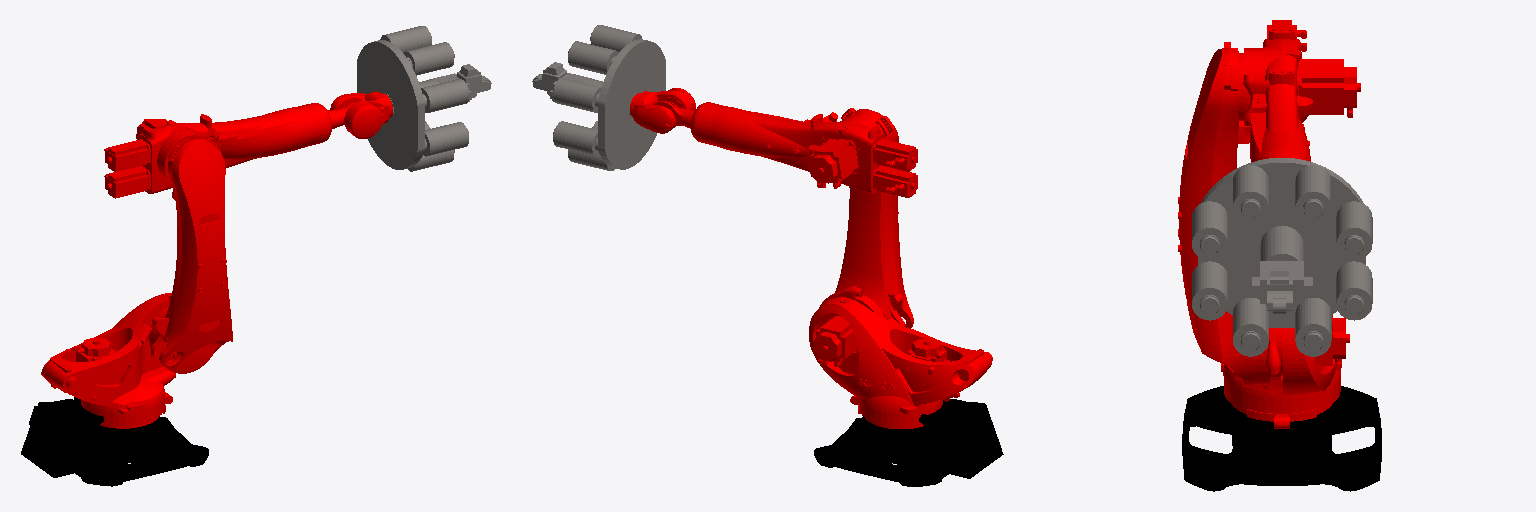
robot.urdf — testzxb:
<?xml version="1.0" encoding="utf-8"?>
<!-- This URDF was automatically created by SolidWorks to URDF Exporter! Originally created by [author] ([email redacted]) 
     Commit Version: 1.6.0-1-g15f4949  Build Version: 1.6.7594.29634
     For more information, please see http://wiki.ros.org/sw_urdf_exporter -->
<robot
  name="testzxb">
  <link
    name="base_link">
    <inertial>
      <origin
        xyz="-0.13309 0.00015108 0.12359"
        rpy="0 0 0" />
      <mass
        value="81.392" />
      <inertia
        ixx="2.3667"
        ixy="0.0041807"
        ixz="0.40095"
        iyy="5.0216"
        iyz="-0.003586"
        izz="6.4772" />
    </inertial>
    <visual>
      <origin
        xyz="0 0 0"
        rpy="0 0 0" />
      <geometry>
        <mesh
          filename="package://testzxb/meshes/base_link.STL" />
      </geometry>
      <material
        name="Black">
        <color
          rgba="0 0 0 1" />
      </material>
    </visual>
    <collision>
      <origin
        xyz="0 0 0"
        rpy="0 0 0" />
      <geometry>
        <mesh
          filename="package://testzxb/meshes/base_link.STL" />
      </geometry>
    </collision>
  </link>
  <link
    name="link1">
    <inertial>
      <origin
        xyz="0.003882 0.01916 -0.19"
        rpy="0 0 0" />
      <mass
        value="88.977" />
      <inertia
        ixx="3.1934"
        ixy="-0.63734"
        ixz="-0.50662"
        iyy="6.3593"
        iyz="-0.25989"
        izz="5.3066" />
    </inertial>
    <visual>
      <origin
        xyz="0 0 0"
        rpy="0 0 0" />
      <geometry>
        <mesh
          filename="package://testzxb/meshes/link1.STL" />
      </geometry>
      <material
        name="Red">
        <color
          rgba="1 0 0 1" />
      </material>
    </visual>
    <collision>
      <origin
        xyz="0 0 0"
        rpy="0 0 0" />
      <geometry>
        <mesh
          filename="package://testzxb/meshes/link1.STL" />
      </geometry>
    </collision>
  </link>
  <joint
    name="joint1"
    type="revolute">
    <origin
      xyz="0 0 0.675"
      rpy="0 0 0" />
    <parent
      link="base_link" />
    <child
      link="link1" />
    <axis
      xyz="0 0 -1" />
    <limit
      lower="-180"
      upper="180"
      effort="0"
      velocity="0" />
  </joint>
  <link
    name="link2">
    <inertial>
      <origin
        xyz="0.0030073 -0.43194 -0.23567"
        rpy="0 0 0" />
      <mass
        value="95.861" />
      <inertia
        ixx="15.982"
        ixy="0.0055049"
        ixz="-0.0048965"
        iyy="1.7586"
        iyz="-1.7556"
        izz="15.763" />
    </inertial>
    <visual>
      <origin
        xyz="0 0 0"
        rpy="0 0 0" />
      <geometry>
        <mesh
          filename="package://testzxb/meshes/link2.STL" />
      </geometry>
      <material
        name="Red">
        <color
          rgba="1 0 0 1" />
      </material>
    </visual>
    <collision>
      <origin
        xyz="0 0 0"
        rpy="0 0 0" />
      <geometry>
        <mesh
          filename="package://testzxb/meshes/link2.STL" />
      </geometry>
    </collision>
  </link>
  <joint
    name="joint2"
    type="revolute">
    <origin
      xyz="0.35 0 0"
      rpy="-1.5708 0 0" />
    <parent
      link="link1" />
    <child
      link="link2" />
    <axis
      xyz="0 0 -1" />
    <limit
      lower="-180"
      upper="180"
      effort="0"
      velocity="0" />
  </joint>
  <link
    name="link3">
    <inertial>
      <origin
        xyz="0.22582 0.024977 0.00024893"
        rpy="0 0 0" />
      <mass
        value="76.776" />
      <inertia
        ixx="1.0731"
        ixy="-0.221"
        ixz="0.1193"
        iyy="10.475"
        iyz="0.00051905"
        izz="10.381" />
    </inertial>
    <visual>
      <origin
        xyz="0 0 0"
        rpy="0 0 0" />
      <geometry>
        <mesh
          filename="package://testzxb/meshes/link3.STL" />
      </geometry>
      <material
        name="Red">
        <color
          rgba="1 0 0 1" />
      </material>
    </visual>
    <collision>
      <origin
        xyz="0 0 0"
        rpy="0 0 0" />
      <geometry>
        <mesh
          filename="package://testzxb/meshes/link3.STL" />
      </geometry>
    </collision>
  </link>
  <joint
    name="joint3"
    type="revolute">
    <origin
      xyz="0 -1.15 0"
      rpy="0 0 0" />
    <parent
      link="link2" />
    <child
      link="link3" />
    <axis
      xyz="0 0 1" />
    <limit
      lower="-180"
      upper="180"
      effort="0"
      velocity="0" />
  </joint>
  <link
    name="link4">
    <inertial>
      <origin
        xyz="3.6576E-06 0.00099016 -0.1567"
        rpy="0 0 0" />
      <mass
        value="4.7756" />
      <inertia
        ixx="0.05835"
        ixy="-5.5963E-08"
        ixz="-4.7946E-08"
        iyy="0.058855"
        iyz="-0.0009601"
        izz="0.02157" />
    </inertial>
    <visual>
      <origin
        xyz="0 0 0"
        rpy="0 0 0" />
      <geometry>
        <mesh
          filename="package://testzxb/meshes/link4.STL" />
      </geometry>
      <material
        name="Red">
        <color
          rgba="1 0 0 1" />
      </material>
    </visual>
    <collision>
      <origin
        xyz="0 0 0"
        rpy="0 0 0" />
      <geometry>
        <mesh
          filename="package://testzxb/meshes/link4.STL" />
      </geometry>
    </collision>
  </link>
  <joint
    name="joint4"
    type="revolute">
    <origin
      xyz="1.2 0.041 0"
      rpy="1.5708 0 1.5708" />
    <parent
      link="link3" />
    <child
      link="link4" />
    <axis
      xyz="0 0 -1" />
    <limit
      lower="-180"
      upper="180"
      effort="0"
      velocity="0" />
  </joint>
  <link
    name="link5">
    <inertial>
      <origin
        xyz="0.046709 5.6893E-05 0.023993"
        rpy="0 0 0" />
      <mass
        value="8.4718" />
      <inertia
        ixx="0.082597"
        ixy="-3.5691E-05"
        ixz="0.013291"
        iyy="0.11535"
        iyz="-3.332E-05"
        izz="0.068359" />
    </inertial>
    <visual>
      <origin
        xyz="0 0 0"
        rpy="0 0 0" />
      <geometry>
        <mesh
          filename="package://testzxb/meshes/link5.STL" />
      </geometry>
      <material
        name="Red">
        <color
          rgba="1 0 0 1" />
      </material>
    </visual>
    <collision>
      <origin
        xyz="0 0 0"
        rpy="0 0 0" />
      <geometry>
        <mesh
          filename="package://testzxb/meshes/link5.STL" />
      </geometry>
    </collision>
  </link>
  <joint
    name="joint5"
    type="revolute">
    <origin
      xyz="0 0 0"
      rpy="1.5708 -1.5708 0" />
    <parent
      link="link4" />
    <child
      link="link5" />
    <axis
      xyz="0 0 -1" />
    <limit
      lower="-180"
      upper="180"
      effort="0"
      velocity="0" />
  </joint>
  <link
    name="link6">
    <inertial>
      <origin
        xyz="0.00021621 -1.5923E-15 0.20042"
        rpy="0 0 0" />
      <mass
        value="0.36322" />
      <inertia
        ixx="0.00047945"
        ixy="-1.6757E-18"
        ixz="3.4593E-07"
        iyy="0.00048434"
        iyz="4.1798E-19"
        izz="0.00092366" />
    </inertial>
    <visual>
      <origin
        xyz="0 0 0"
        rpy="0 0 0" />
      <geometry>
        <mesh
          filename="package://testzxb/meshes/link6.STL" />
      </geometry>
      <material
        name="Red">
        <color
          rgba="1 0 0 1" />
      </material>
    </visual>
    <collision>
      <origin
        xyz="0 0 0"
        rpy="0 0 0" />
      <geometry>
        <mesh
          filename="package://testzxb/meshes/link6.STL" />
      </geometry>
    </collision>
  </link>
  <joint
    name="joint6"
    type="revolute">
    <origin
      xyz="0 0 0"
      rpy="1.5708 0 1.5708" />
    <parent
      link="link5" />
    <child
      link="link6" />
    <axis
      xyz="0 0 -1" />
    <limit
      lower="-180"
      upper="180"
      effort="0"
      velocity="0" />
  </joint>
  <link
    name="gripper">
    <inertial>
      <origin
        xyz="0.00071882 0.00027127 -0.50239"
        rpy="0 0 0" />
      <mass
        value="72.796" />
      <inertia
        ixx="4.199"
        ixy="-0.00050907"
        ixz="-0.01984"
        iyy="4.3428"
        iyz="-0.0077866"
        izz="5.8692" />
    </inertial>
    <visual>
      <origin
        xyz="0 0 0"
        rpy="0 0 0" />
      <geometry>
        <mesh
          filename="package://testzxb/meshes/gripper.STL" />
      </geometry>
      <material
        name="Grey">
        <color
          rgba="0.5451 0.52549 0.5098 1" />
      </material>
    </visual>
    <collision>
      <origin
        xyz="0 0 0"
        rpy="0 0 0" />
      <geometry>
        <mesh
          filename="package://testzxb/meshes/gripper.STL" />
      </geometry>
    </collision>
  </link>
  <joint
    name="afp"
    type="fixed">
    <origin
      xyz="0 0 0.888"
      rpy="0 0 0" />
    <parent
      link="link6" />
    <child
      link="gripper" />
    <axis
      xyz="0 0 0" />
  </joint>
</robot>

--- What the picture shows (computed from the rendered views, not written in the file) ---
Views: 3 orthographic renders of the robot side by side, from view 1: azimuth 30°, elevation 25°; view 2: azimuth 150°, elevation 25°; view 3: azimuth 270°, elevation 25°.
Robot: testzxb — 8 links, 7 joints (6 revolute, 1 fixed); root link base_link; default pose: every joint at zero.
Visible links, largest first — view 1: link2, gripper, base_link, link1, link3, link5, link4; view 2: link1, link3, gripper, base_link, link2, link5, link4; view 3: gripper, base_link, link2, link3, link1.
Link boxes in pixels (left/top/right/bottom): link2: left=149, top=137, right=232, bottom=373; gripper: left=357, top=26, right=491, bottom=171; base_link: left=21, top=397, right=208, bottom=486; link1: left=41, top=293, right=175, bottom=428; link3: left=104, top=104, right=323, bottom=198; link5: left=330, top=91, right=390, bottom=138; link4: left=311, top=97, right=361, bottom=143; link1: left=809, top=297, right=992, bottom=428; link3: left=699, top=103, right=917, bottom=197; gripper: left=532, top=25, right=665, bottom=170; base_link: left=814, top=399, right=1003, bottom=486; link2: left=810, top=108, right=913, bottom=328; link5: left=631, top=88, right=695, bottom=133; link4: left=654, top=101, right=712, bottom=142; gripper: left=1192, top=158, right=1372, bottom=356; base_link: left=1182, top=386, right=1381, bottom=491; link2: left=1178, top=42, right=1282, bottom=386; link3: left=1239, top=20, right=1360, bottom=162; link1: left=1221, top=315, right=1349, bottom=428.
Bounding box of the posed robot: 3.01 × 0.848 × 2.16 m (x, y, z).
8 mesh visuals loaded from 8 distinct referenced files (8 binary STL).